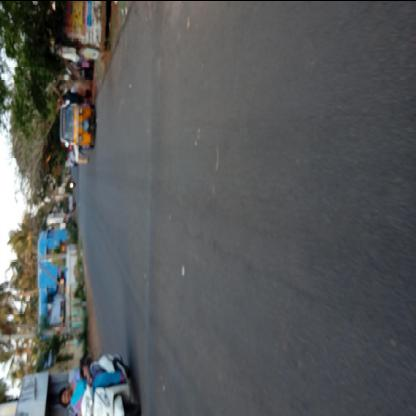speed-bumps: (141, 0, 163, 414)
